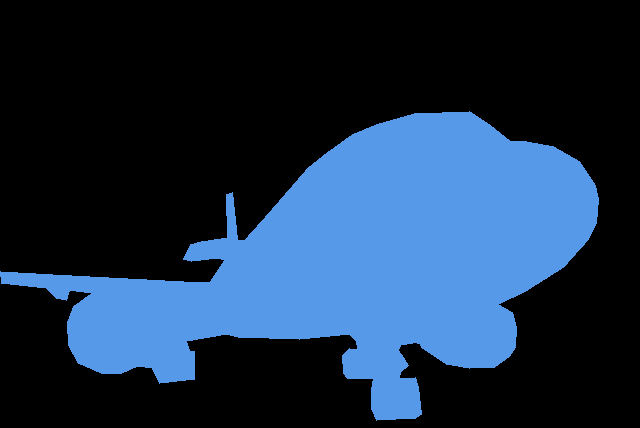Airplane: (0, 111, 598, 420)
